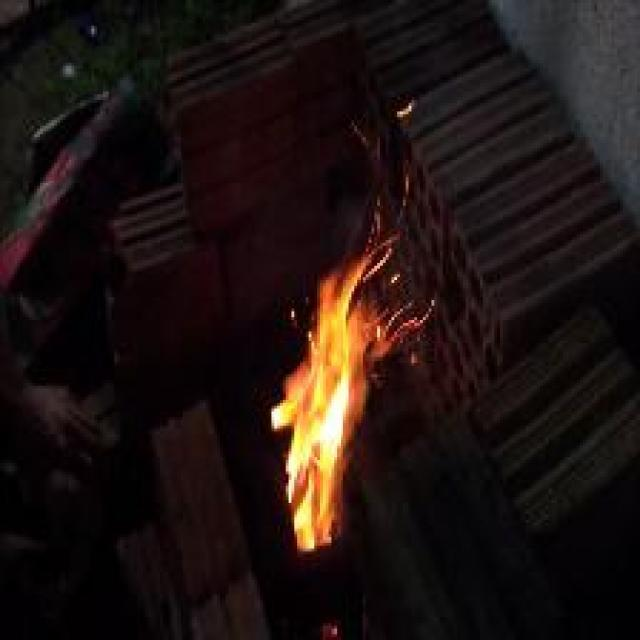Fire: (273, 181, 433, 553)
